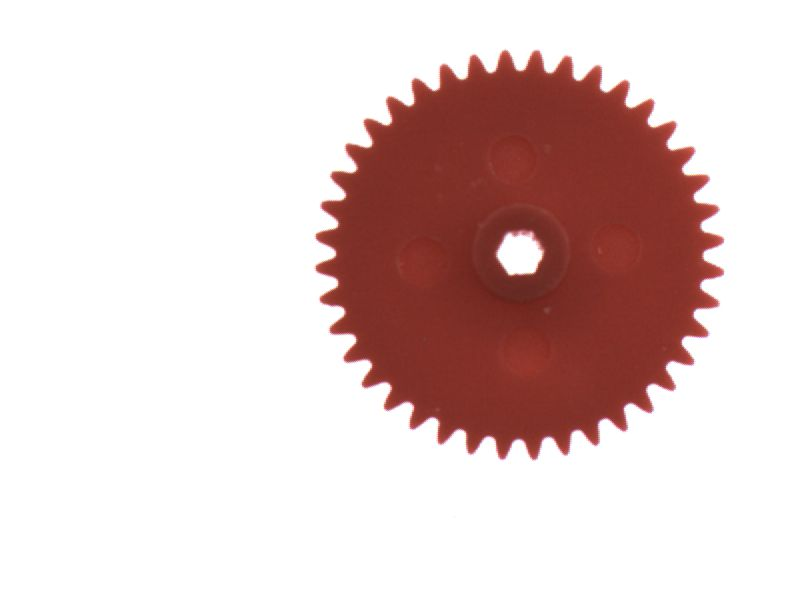good_product: (304, 36, 736, 478)
